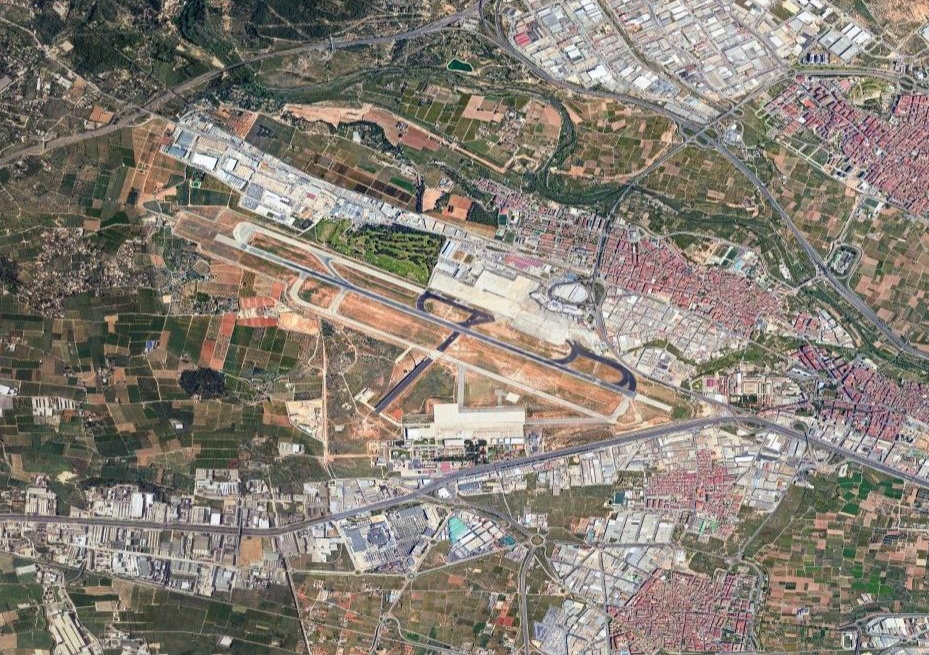airport: (212, 219, 639, 440)
motorway: (402, 1, 471, 40), (133, 78, 194, 115), (193, 53, 261, 82), (264, 29, 332, 58), (335, 25, 403, 54), (676, 110, 722, 152), (629, 147, 675, 189), (793, 231, 834, 278), (879, 322, 929, 360), (721, 148, 765, 190), (1, 136, 72, 162), (833, 281, 879, 321), (74, 114, 142, 138), (608, 91, 673, 115), (765, 187, 798, 232), (557, 79, 610, 107), (516, 54, 560, 85), (470, 28, 518, 53), (604, 183, 633, 216)
